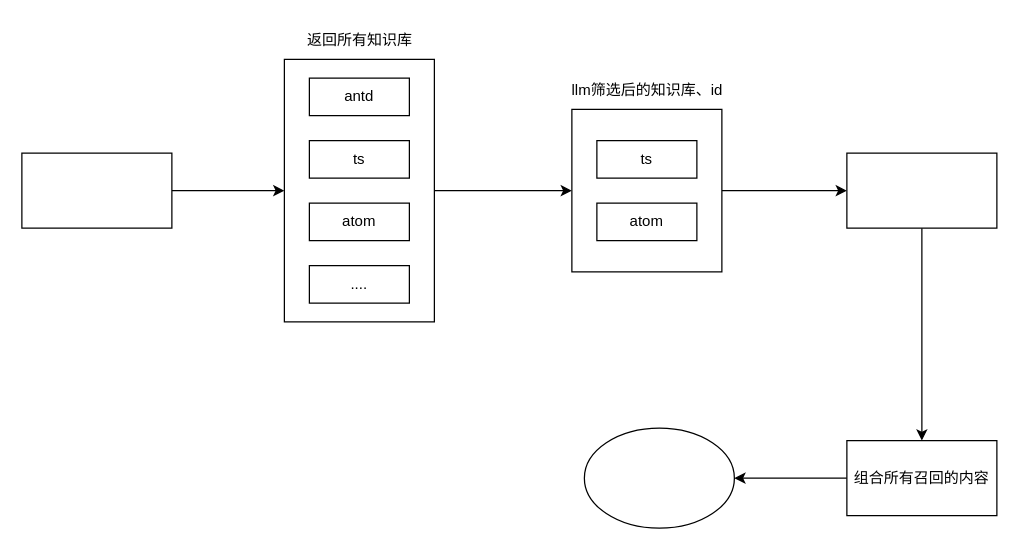
Some shapes in this 1019 by 550 pixel diagram are drawn without their labels. Each missing label, with the centre of its shape:
"llm" goes at [658,477].
"并发请求多个知识库进行召回" goes at [921,190].
"查询" goes at [96,190].
